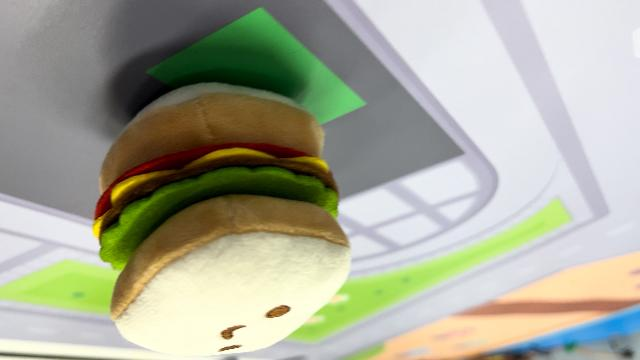sandwich: (90, 79, 354, 355)
